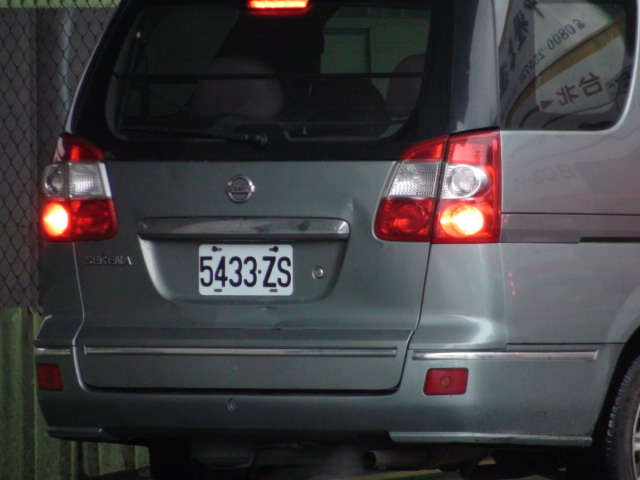plate: (195, 242, 298, 302)
